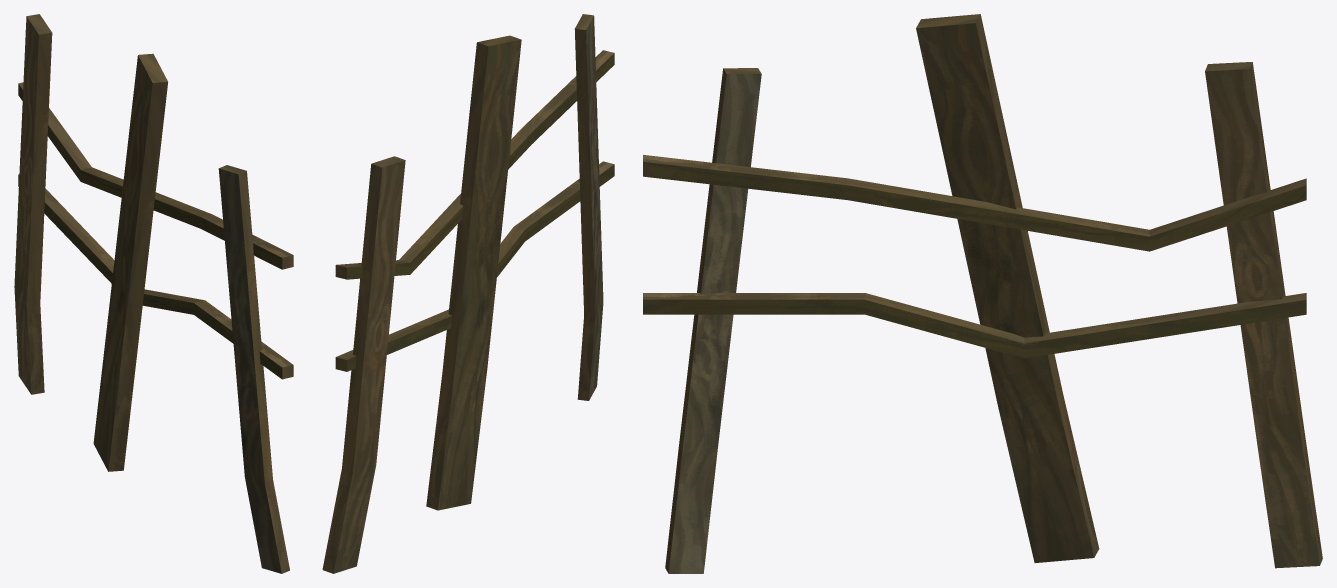
File: Fence02.fbx
The picture shows the model from 3 angles, left to right: view 1: azimuth 30°, elevation 25°; view 2: azimuth 150°, elevation 25°; view 3: azimuth 270°, elevation 25°; orthographic projection. The views are drawn at different scales.
Parts seen in each view (by area): view 1: Fence02; view 2: Fence02; view 3: Fence02.
Part boxes in pixels (x1,y1,x2,y2): Fence02: (14, 14, 293, 573); Fence02: (322, 14, 614, 573); Fence02: (643, 14, 1322, 573).
Size of the model in its own units: 0.116 by 1.27 by 1.43.
1 material, 1 textured.
